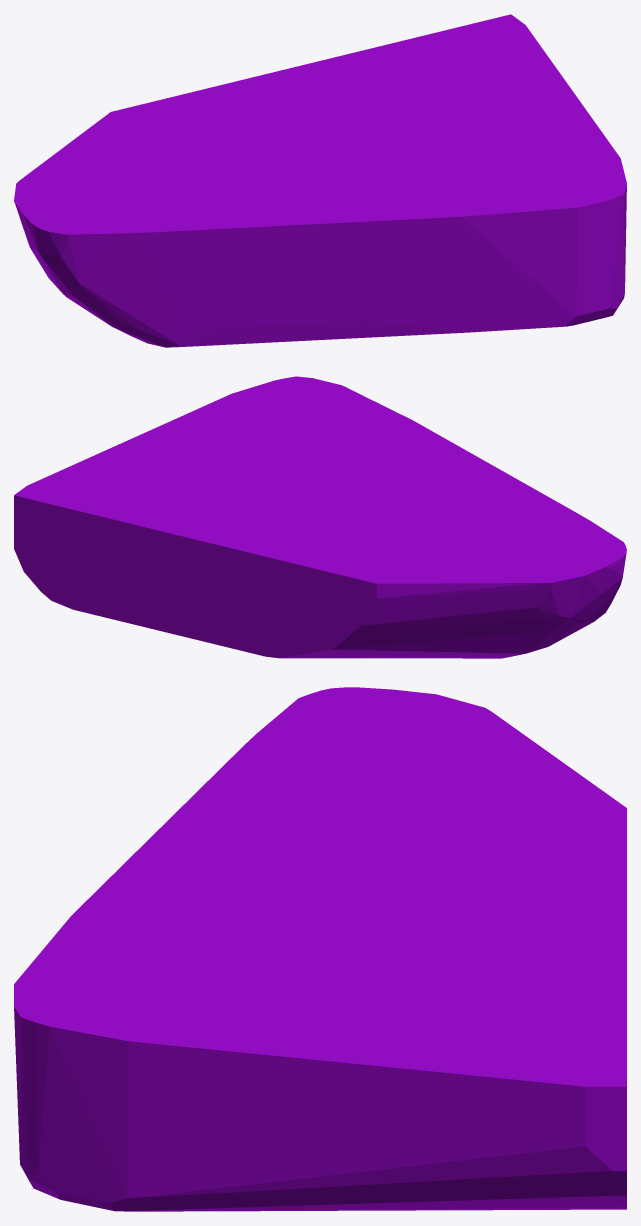
File: model0_convex_piece_014.obj
3 views of the same model, one above another, from view 1: azimuth 30°, elevation 25°; view 2: azimuth 150°, elevation 25°; view 3: azimuth 270°, elevation 25° (orthographic). The views are drawn at different scales.
Bounding box in the file's own units: 0.0244 × 0.00518 × 0.0158.
